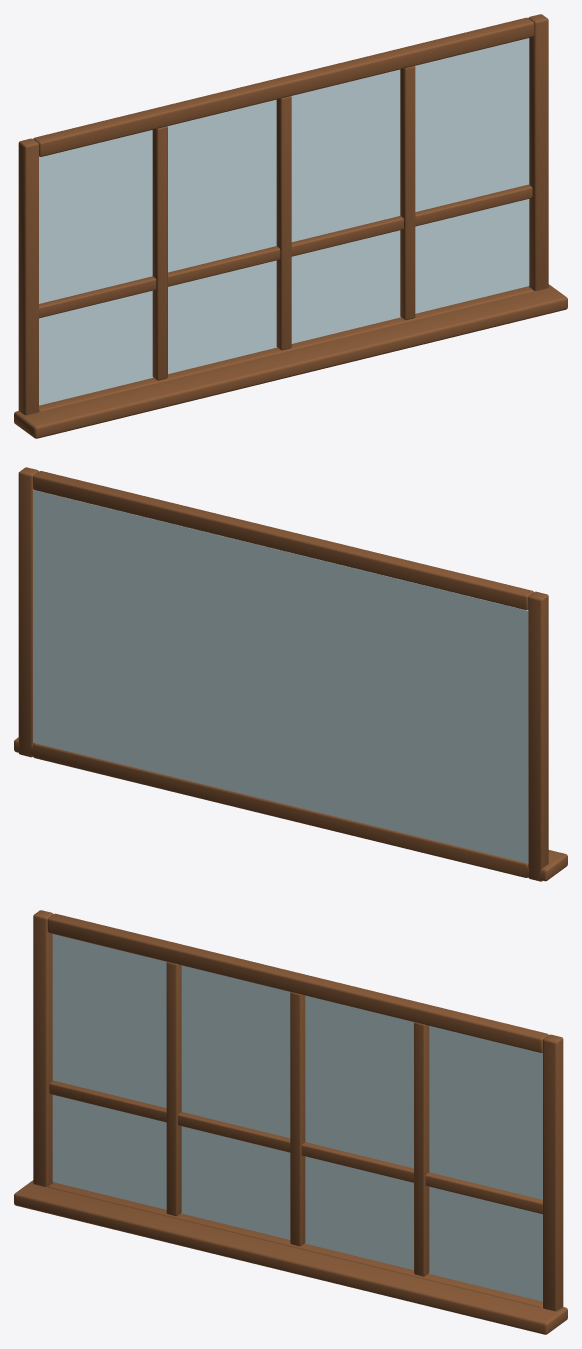
File: window_frame.glb
3 renders of one model, top to bottom at view 1: azimuth 30°, elevation 25°; view 2: azimuth 150°, elevation 25°; view 3: azimuth 330°, elevation 25°, orthographic.
Parts seen in each view (by area): view 1: WindowGlass, window_frame_sill, window_frame_head.001, window_frame_transom, window_frame_jamb, window_frame_jamb.001, window_frame_mullion.002, window_frame_mullion.001, window_frame_mullion, window_frame_head; view 2: WindowGlass, window_frame_head.001, window_frame_head, window_frame_jamb, window_frame_jamb.001, window_frame_sill; view 3: WindowGlass, window_frame_sill, window_frame_head.001, window_frame_transom, window_frame_jamb.001, window_frame_jamb, window_frame_mullion, window_frame_mullion.001, window_frame_mullion.002, window_frame_head.
Boxes of the visible parts, bbox=[...] form: WindowGlass: bbox=[39, 38, 529, 405]; window_frame_sill: bbox=[14, 284, 567, 438]; window_frame_head.001: bbox=[33, 17, 534, 156]; window_frame_transom: bbox=[39, 184, 532, 318]; window_frame_jamb: bbox=[18, 138, 38, 415]; window_frame_jamb.001: bbox=[528, 14, 548, 290]; window_frame_mullion.002: bbox=[400, 66, 415, 320]; window_frame_mullion.001: bbox=[276, 96, 291, 350]; window_frame_mullion: bbox=[152, 126, 167, 380]; window_frame_head: bbox=[39, 286, 533, 411]; WindowGlass: bbox=[33, 489, 528, 863]; window_frame_head.001: bbox=[33, 471, 533, 609]; window_frame_head: bbox=[33, 743, 528, 877]; window_frame_jamb: bbox=[528, 591, 548, 881]; window_frame_jamb.001: bbox=[18, 467, 38, 757]; window_frame_sill: bbox=[14, 737, 567, 881]; WindowGlass: bbox=[52, 934, 542, 1301]; window_frame_sill: bbox=[14, 1180, 567, 1334]; window_frame_head.001: bbox=[47, 913, 548, 1052]; window_frame_transom: bbox=[49, 1080, 542, 1214]; window_frame_jamb.001: bbox=[543, 1034, 563, 1311]; window_frame_jamb: bbox=[33, 910, 53, 1186]; window_frame_mullion: bbox=[166, 962, 181, 1216]; window_frame_mullion.001: bbox=[290, 992, 305, 1246]; window_frame_mullion.002: bbox=[414, 1022, 429, 1276]; window_frame_head: bbox=[48, 1182, 542, 1307].
Size of the model in its own units: 2.21 by 1.12 by 0.16.
